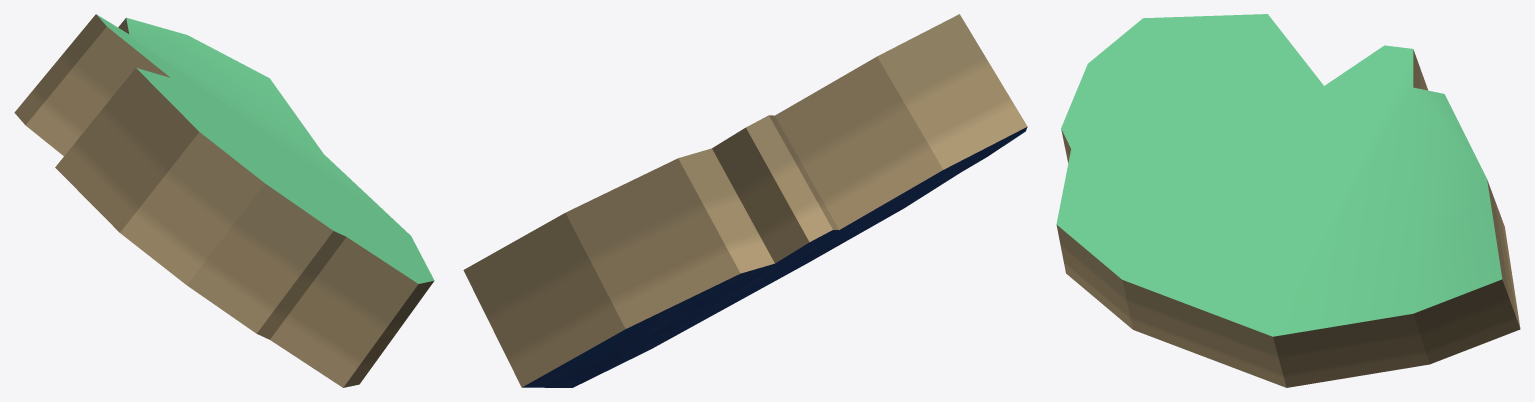
The model's file is 0638_Ethiopia.glb.
The picture shows the model from 3 angles, left to right: view 1: azimuth 30°, elevation 25°; view 2: azimuth 150°, elevation 25°; view 3: azimuth 270°, elevation 25°; orthographic projection. The views are drawn at different scales.
Parts seen in each view (by area): view 1: part_0; view 2: part_0; view 3: part_0.
Part boxes in pixels (x1,y1,x2,y2): part_0: [14, 14, 434, 387]; part_0: [463, 14, 1027, 387]; part_0: [1056, 14, 1520, 387].
Size of the model in its own units: 0.6438 by 0.5648 by 0.8327.
1 material, 1 textured.
